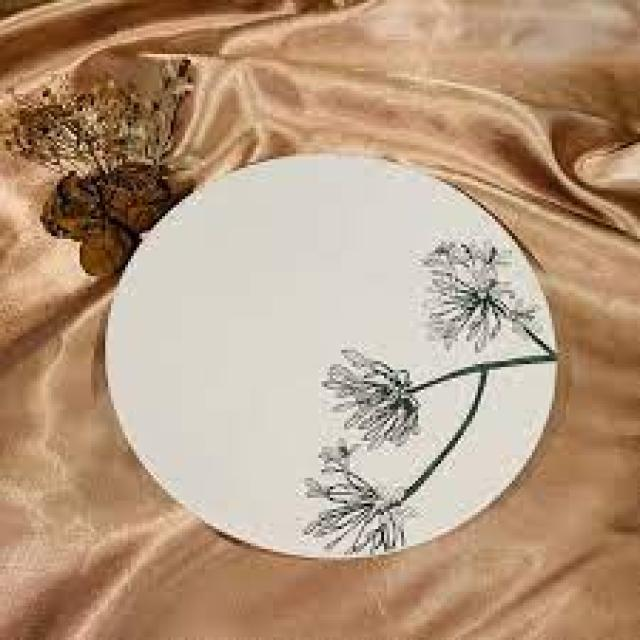Plate: (101, 140, 584, 582)
